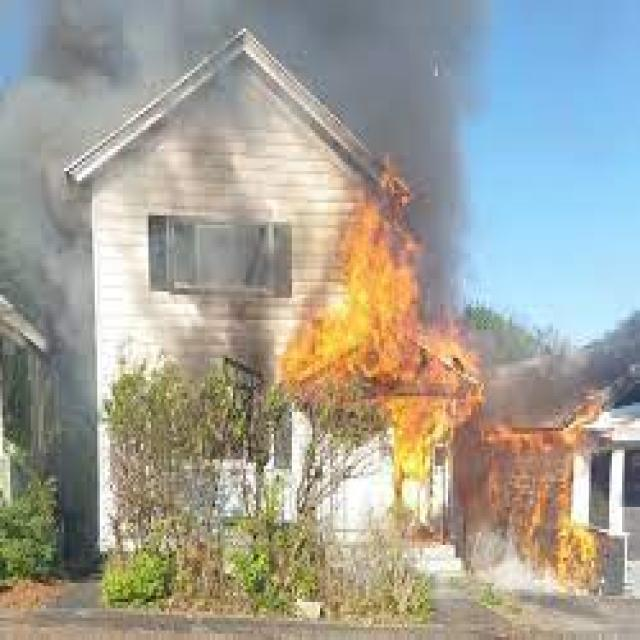Fire: (18, 0, 502, 313), (305, 203, 460, 435)
